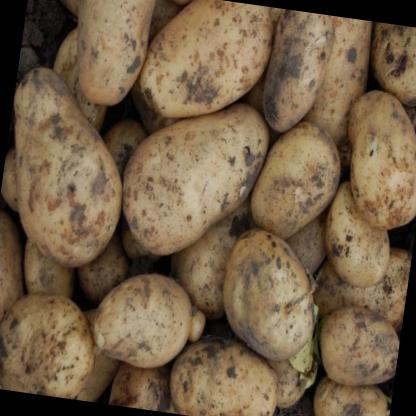potato: (111, 84, 274, 270), (0, 61, 139, 277), (131, 0, 277, 133), (283, 12, 378, 194), (212, 224, 327, 367), (243, 114, 346, 252), (332, 83, 416, 235), (86, 262, 198, 376), (0, 281, 104, 401), (163, 327, 286, 416), (257, 7, 339, 139), (63, 0, 158, 113), (316, 176, 401, 293), (312, 298, 404, 393), (106, 336, 192, 414), (361, 21, 416, 111), (308, 366, 393, 416)
